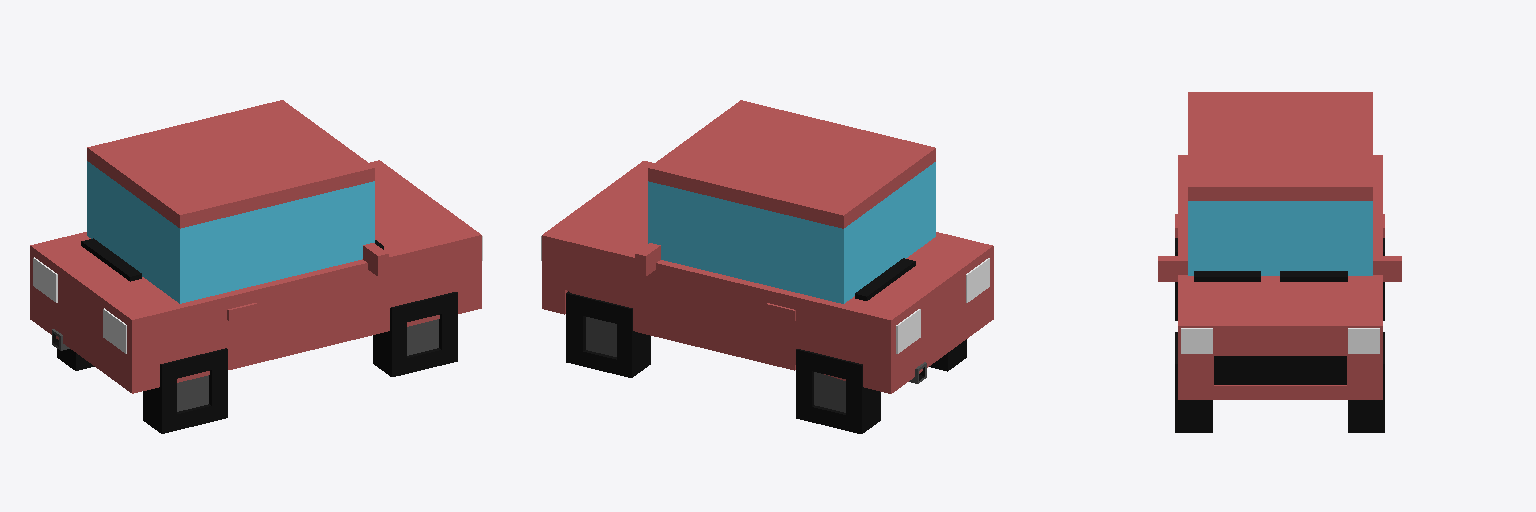
The model's file is avto_rdeca.obj.
The picture shows the model from 3 angles: view 1: azimuth 30°, elevation 25°; view 2: azimuth 150°, elevation 25°; view 3: azimuth 270°, elevation 25°; orthographic projection.
Parts seen in each view (by area): view 1: Mesh2 Group3 Group1 Model, Mesh11 Group12 Group1 Model, Mesh8 Group9 Group1 Model, Mesh5 Group6 Group1 Model, Mesh9 Group10 Group1 Model, Mesh10 Group11 Group1 Model, Mesh6 Group7 Group1 Model, Mesh12 Group13 Group1 Model, Mesh18 Group1 Model; view 2: Mesh2 Group3 Group1 Model, Mesh11 Group12 Group1 Model, Mesh8 Group9 Group1 Model, Mesh4 Group5 Group1 Model, Mesh3 Group4 Group1 Model, Mesh10 Group11 Group1 Model, Mesh6 Group7 Group1 Model, Mesh12 Group13 Group1 Model, Mesh18 Group1 Model, Mesh5 Group6 Group1 Model; view 3: Mesh2 Group3 Group1 Model, Mesh11 Group12 Group1 Model, Mesh8 Group9 Group1 Model, Mesh9 Group10 Group1 Model, Mesh18 Group1 Model, Mesh4 Group5 Group1 Model, Mesh15 Group16 Group1 Model, Mesh16 Group17 Group1 Model, Mesh13 Group14 Group1 Model, Mesh14 Group15 Group1 Model.
Boxes of the visible parts, box(x1,y1,x2,y2) form: Mesh2 Group3 Group1 Model: box(30, 160, 481, 393); Mesh11 Group12 Group1 Model: box(87, 100, 374, 228); Mesh8 Group9 Group1 Model: box(87, 161, 374, 303); Mesh5 Group6 Group1 Model: box(143, 348, 227, 433); Mesh9 Group10 Group1 Model: box(373, 292, 457, 376); Mesh10 Group11 Group1 Model: box(81, 238, 141, 281); Mesh6 Group7 Group1 Model: box(33, 257, 57, 302); Mesh12 Group13 Group1 Model: box(103, 308, 126, 353); Mesh18 Group1 Model: box(363, 243, 388, 276); Mesh2 Group3 Group1 Model: box(542, 161, 993, 393); Mesh11 Group12 Group1 Model: box(648, 100, 935, 228); Mesh8 Group9 Group1 Model: box(648, 162, 935, 303); Mesh4 Group5 Group1 Model: box(566, 291, 650, 377); Mesh3 Group4 Group1 Model: box(796, 349, 880, 433); Mesh10 Group11 Group1 Model: box(855, 258, 915, 300); Mesh6 Group7 Group1 Model: box(896, 309, 920, 353); Mesh12 Group13 Group1 Model: box(966, 258, 989, 302); Mesh18 Group1 Model: box(635, 243, 660, 276); Mesh5 Group6 Group1 Model: box(929, 339, 966, 371); Mesh2 Group3 Group1 Model: box(1178, 155, 1382, 399); Mesh11 Group12 Group1 Model: box(1188, 92, 1372, 200); Mesh8 Group9 Group1 Model: box(1188, 201, 1372, 275); Mesh9 Group10 Group1 Model: box(1175, 332, 1212, 432); Mesh18 Group1 Model: box(1158, 256, 1401, 281); Mesh4 Group5 Group1 Model: box(1348, 332, 1384, 432); Mesh15 Group16 Group1 Model: box(1181, 328, 1212, 353); Mesh16 Group17 Group1 Model: box(1348, 329, 1379, 353); Mesh13 Group14 Group1 Model: box(1280, 271, 1347, 281); Mesh14 Group15 Group1 Model: box(1194, 271, 1260, 281).
Size of the model in its own units: 2158 by 1214 by 1292.